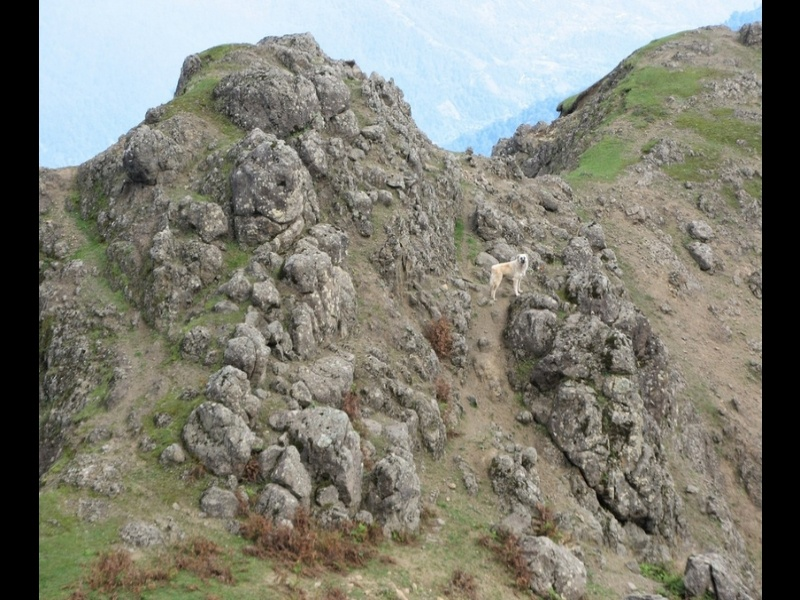dog: (487, 252, 530, 305)
